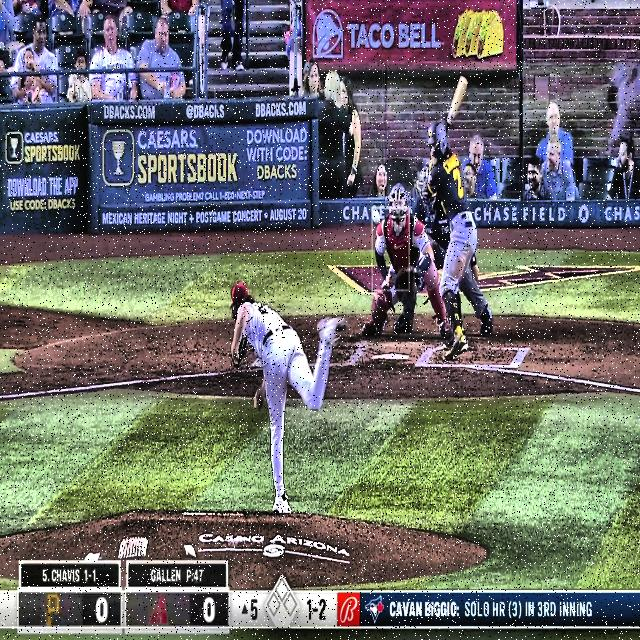baseball: (372, 210, 380, 224)
